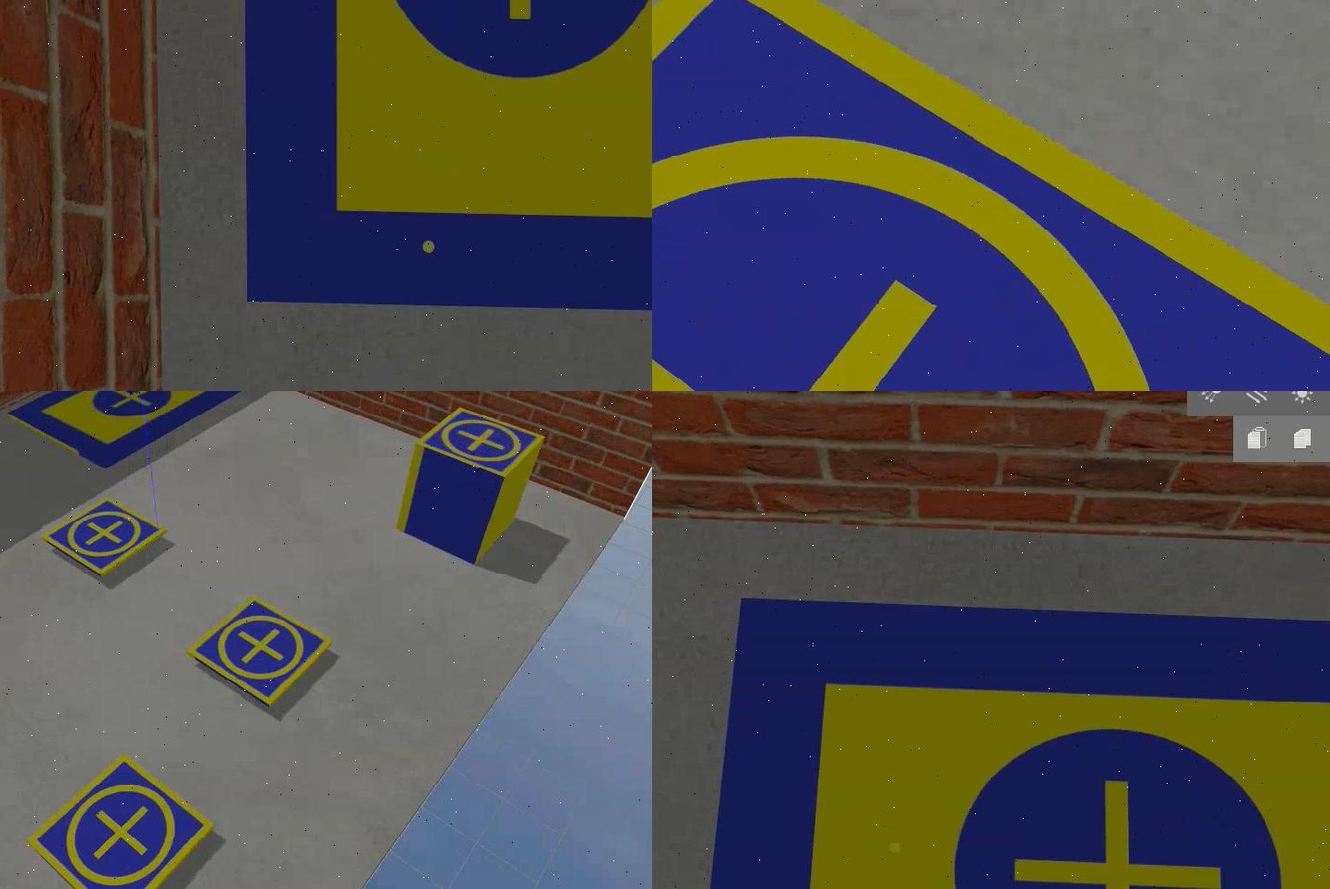large_base: (677, 600, 1328, 889), (238, 1, 651, 317), (4, 391, 250, 472)
small_base: (651, 1, 1328, 391), (24, 756, 215, 889), (183, 595, 329, 708), (40, 499, 168, 579), (410, 408, 543, 483)
